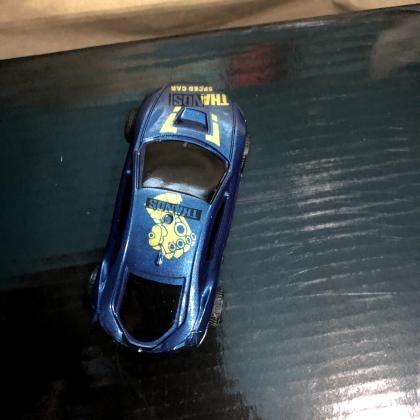Car: (89, 84, 249, 356)
